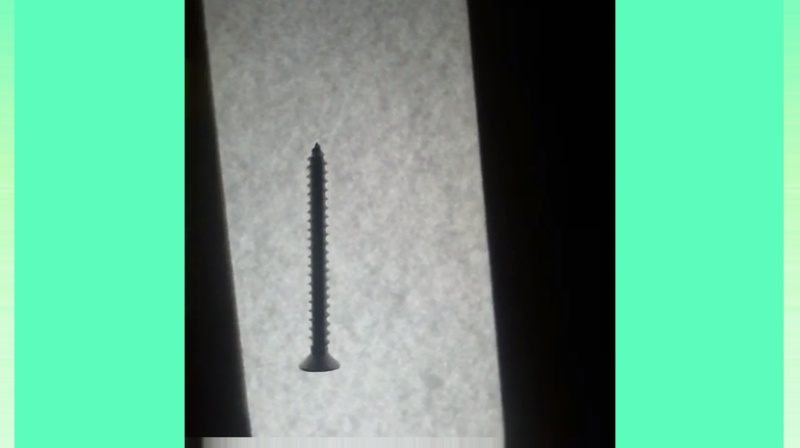S002: (293, 139, 343, 376)
